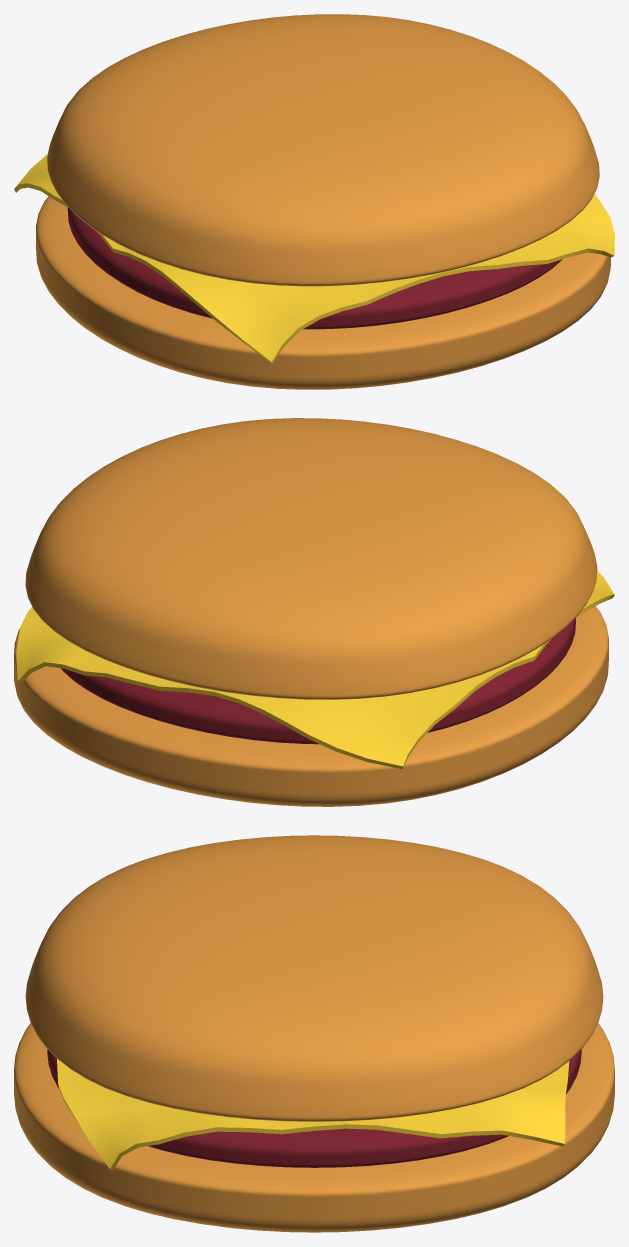
The model's file is burger.glb.
3 views of the same model, one above another, from view 1: azimuth 30°, elevation 25°; view 2: azimuth 150°, elevation 25°; view 3: azimuth 270°, elevation 25° (orthographic). The views are drawn at different scales.
Visible parts, largest first — view 1: Cube.002, Cube, Plane, Cube.001; view 2: Cube.002, Cube, Plane, Cube.001; view 3: Cube.002, Cube, Plane, Cube.001.
Part boxes in pixels (x1=…): Cube.002: x1=47, y1=14, x2=599, y2=286; Cube: x1=36, y1=196, x2=610, y2=389; Plane: x1=14, y1=154, x2=614, y2=363; Cube.001: x1=67, y1=207, x2=562, y2=329; Cube.002: x1=25, y1=418, x2=597, y2=699; Cube: x1=14, y1=606, x2=608, y2=806; Plane: x1=16, y1=571, x2=614, y2=769; Cube.001: x1=61, y1=618, x2=575, y2=744; Cube.002: x1=25, y1=835, x2=603, y2=1121; Cube: x1=14, y1=1023, x2=614, y2=1232; Plane: x1=57, y1=1059, x2=569, y2=1170; Cube.001: x1=47, y1=1049, x2=581, y2=1167.
Size of the model in its own units: 18.28 by 7.33 by 18.28.
